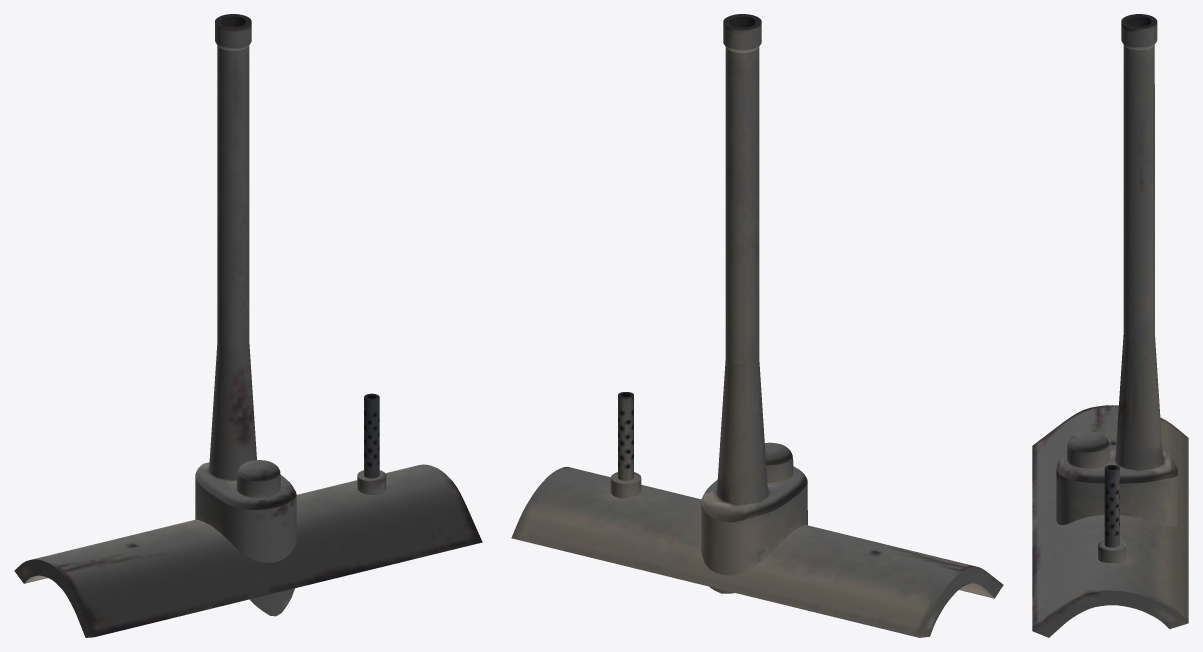
Rendered from Gun_06.glb.
The picture shows the model from 3 angles, left to right: view 1: azimuth 30°, elevation 25°; view 2: azimuth 150°, elevation 25°; view 3: azimuth 270°, elevation 25°; orthographic projection. The views are drawn at different scales.
Visible parts, largest first — view 1: set_0_group_0; view 2: set_0_group_0; view 3: set_0_group_0.
Boxes of the visible parts, x1,y1,x2,y2 form: set_0_group_0: (14,14,482,637); set_0_group_0: (511,14,1003,637); set_0_group_0: (1032,14,1188,637).
Bounding box in the file's own units: 0.9283 × 1.29 × 0.3307.
1 material, 1 textured.
